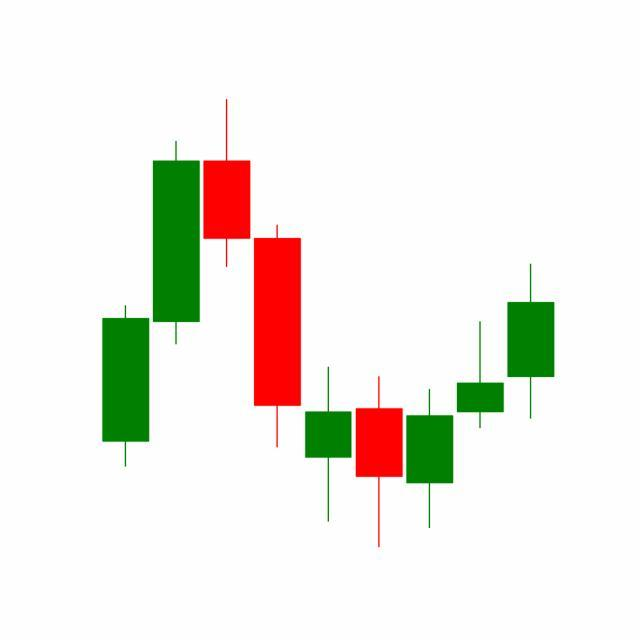Hikkake Pattern: (252, 221, 506, 549)
